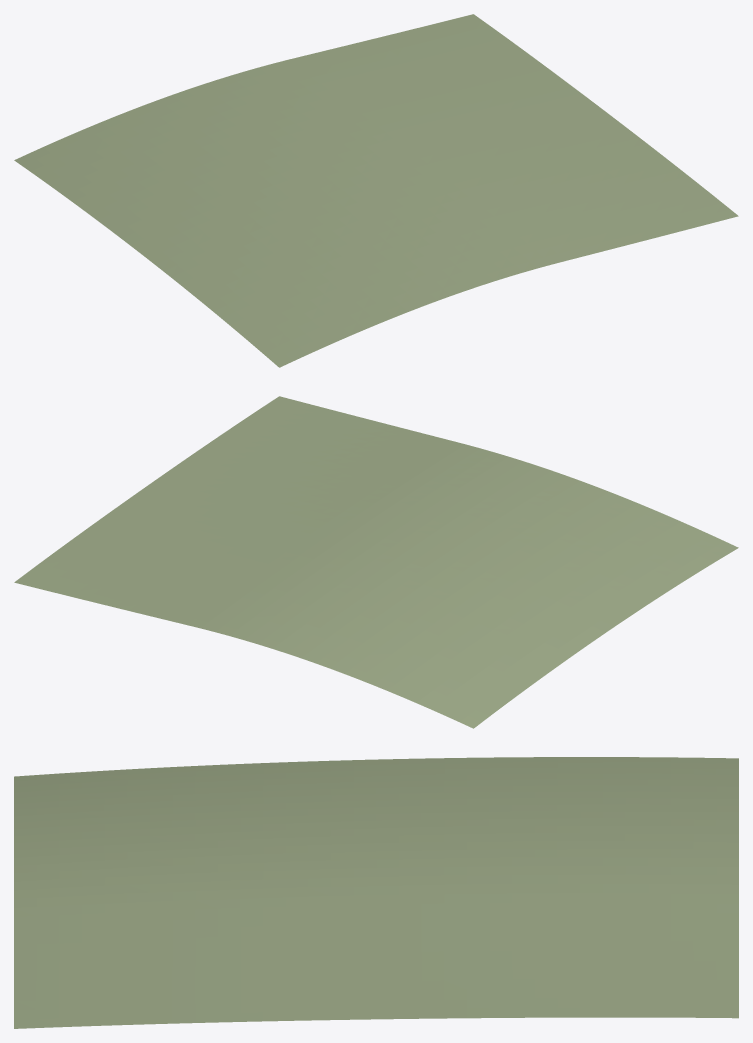
File: desert-24-7.glb
The picture shows the model from 3 angles, top to bottom: view 1: azimuth 30°, elevation 25°; view 2: azimuth 150°, elevation 25°; view 3: azimuth 270°, elevation 25°; orthographic projection. The views are drawn at different scales.
Visible parts, largest first — view 1: desert-24-7; view 2: desert-24-7; view 3: desert-24-7.
Part boxes in pixels (left/top/right/bottom): desert-24-7: left=14, top=14, right=738, bottom=367; desert-24-7: left=14, top=396, right=738, bottom=728; desert-24-7: left=14, top=757, right=738, bottom=1028.
Bounding box in the file's own units: 512 × 50.96 × 512.
